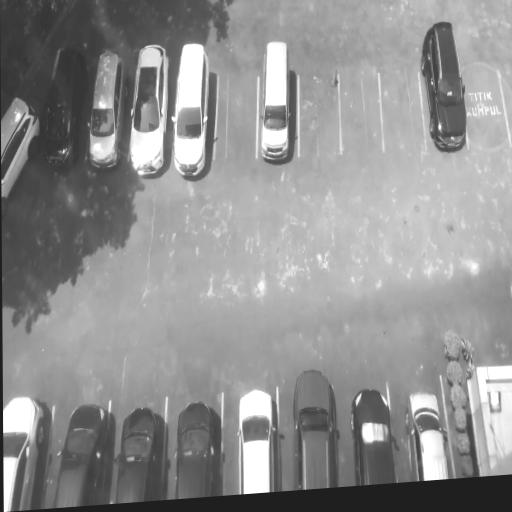Car: (1, 82, 49, 222), (420, 17, 467, 158), (50, 397, 110, 505), (292, 363, 342, 487), (130, 38, 171, 182), (173, 37, 214, 178), (3, 398, 54, 509), (402, 378, 456, 481), (114, 397, 166, 502), (174, 394, 225, 497), (42, 37, 82, 167), (350, 382, 400, 483), (84, 41, 122, 170), (238, 383, 283, 490), (258, 34, 295, 161)
Space Available: (297, 50, 340, 164), (216, 48, 257, 167), (339, 52, 382, 162), (383, 61, 425, 157), (465, 51, 507, 147)
